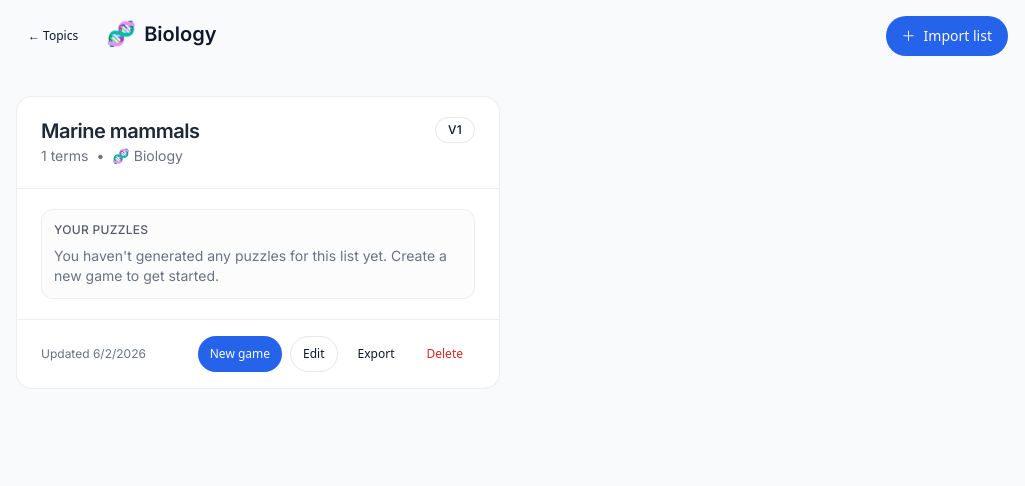
ListsPage error state (#36) › shows a friendly message when exporting a list that has no puzzle yet (#2)
Click the button "Export": (376, 354) [346,336,406,372]
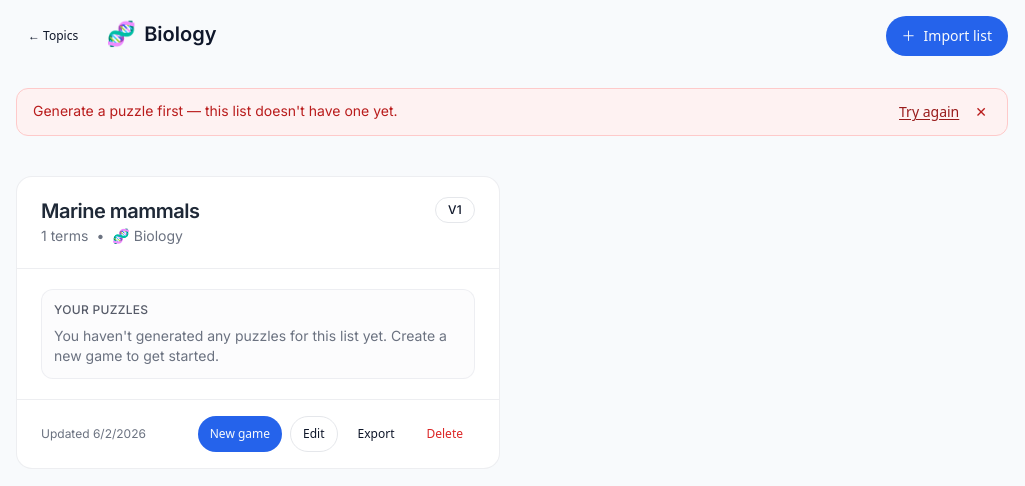
Now the message shows "Generate a puzzle first", box [33,102,398,119]
